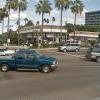Palm tree: (34, 1, 85, 32)
